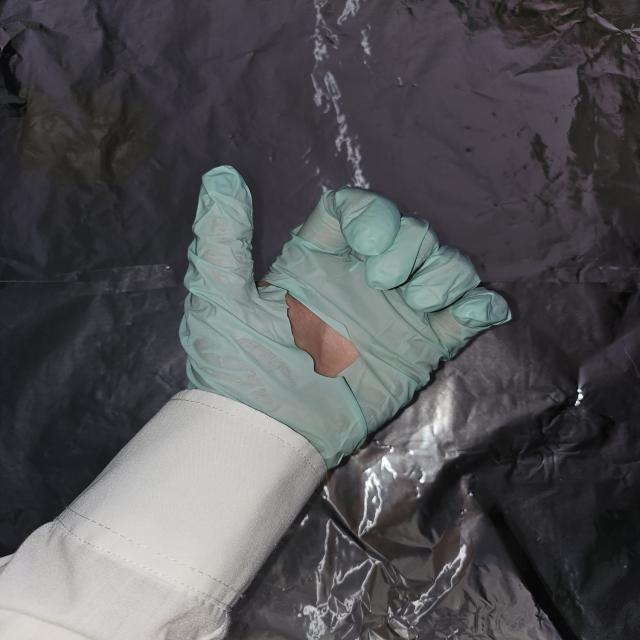gloves_damaged: (177, 165, 515, 471)
